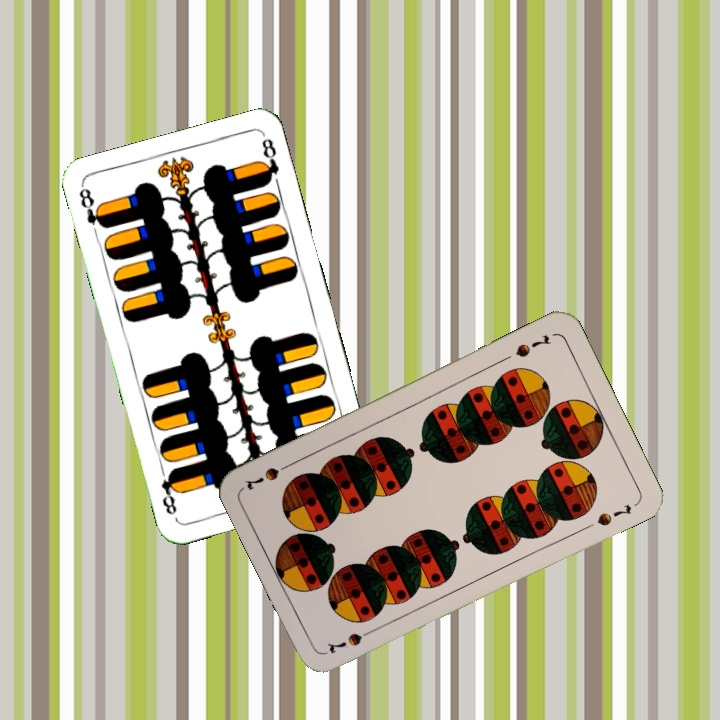E8: (75, 182, 109, 232)
S7: (323, 624, 379, 656), (511, 330, 554, 360)
